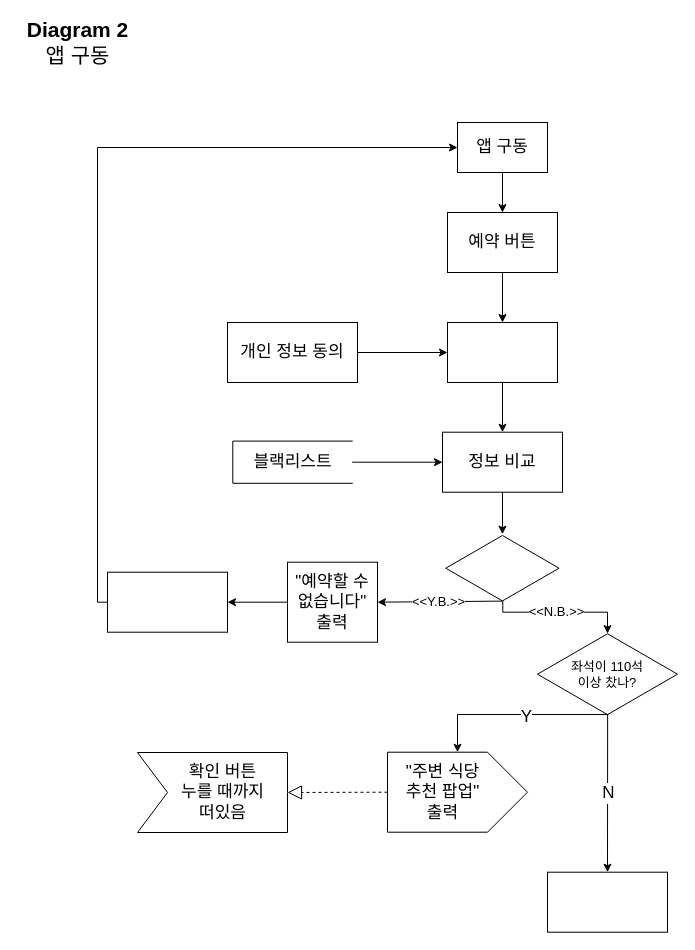
The diagram is 695 pixels wide and 950 high, and some of its shapes have lost their labels. Here are the shapes that lost their labels. From the top down, the centre of each, then its label:
At point (502, 352): "예약 정보 기입".
At point (502, 567): "블랙리스트 확인".
At point (167, 601): "메인으로 강제 복귀".
At point (607, 901): "예약".
